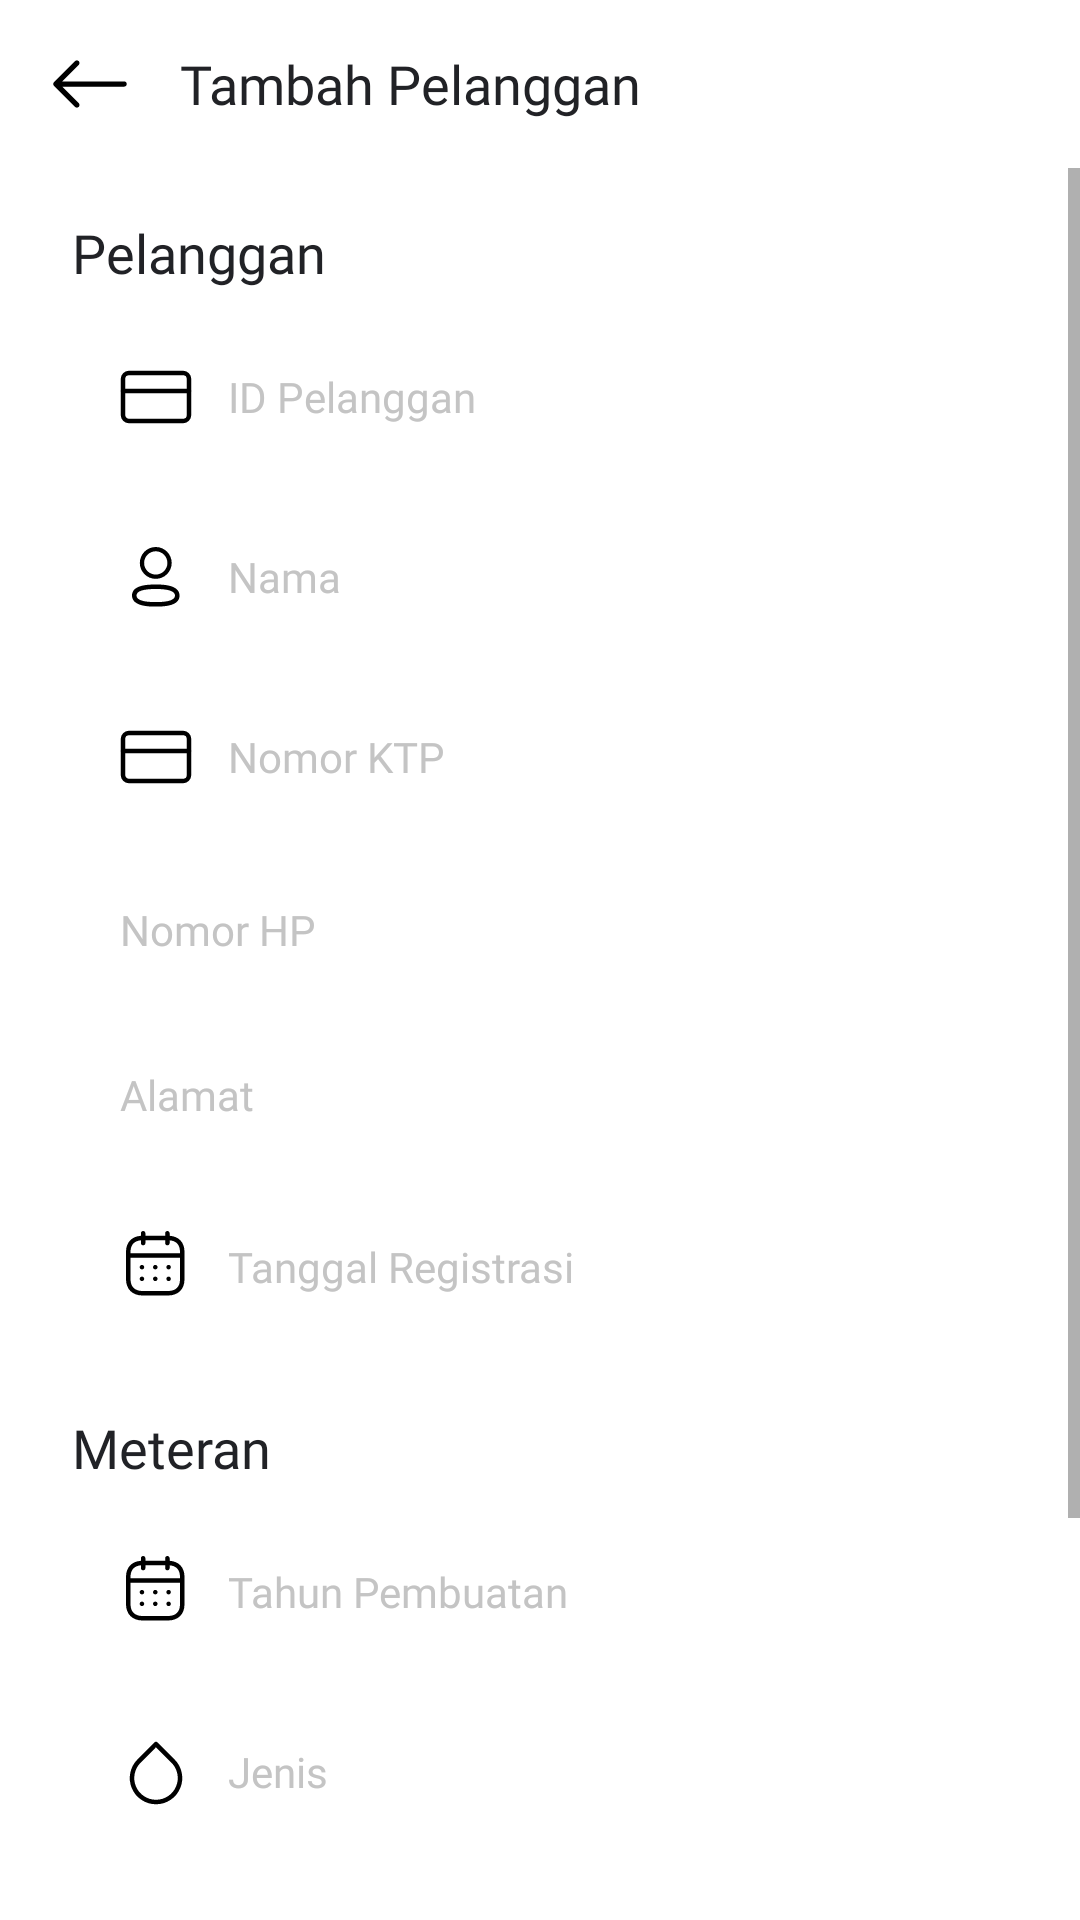

Locate icon controls on the screen. Image size 1080w x 1920h, boxes as Rect(x1, y1, x2, y2).
arrow left: Rect(53, 60, 127, 108)
